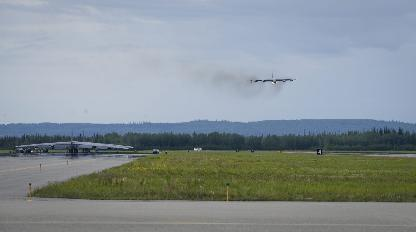B2: (16, 126, 128, 152), (35, 128, 134, 151), (246, 71, 300, 84)
